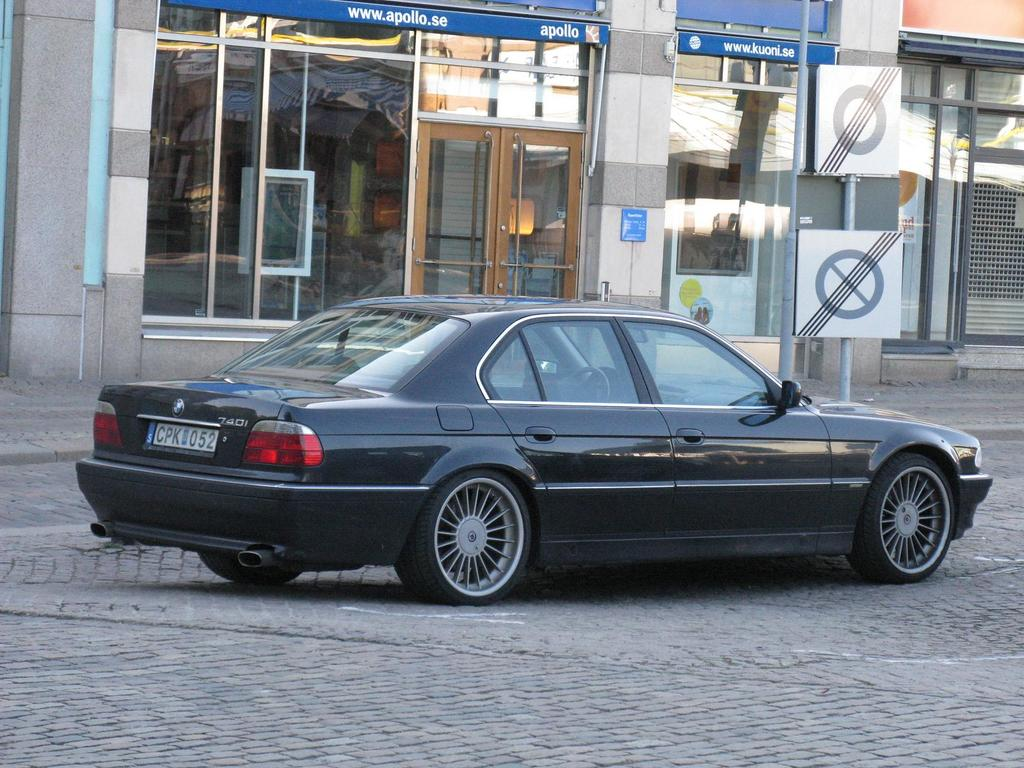Car: (74, 293, 993, 607)
